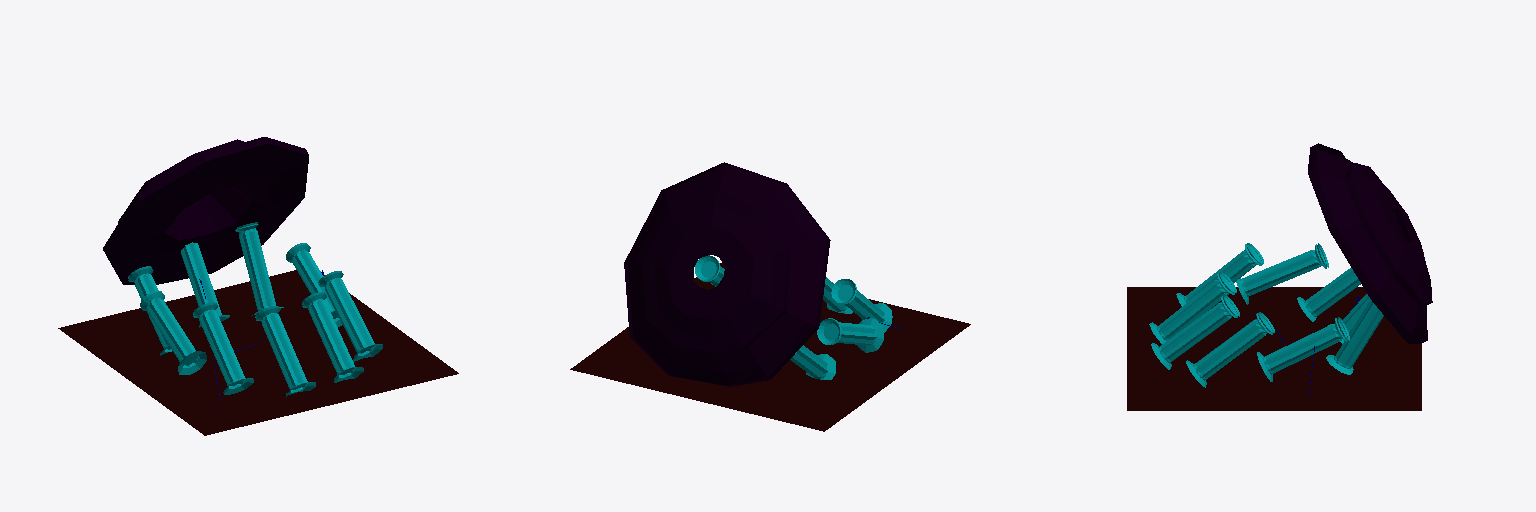
Rendered from Spearyard2d.obj.
3 renders of one model, left to right at view 1: azimuth 30°, elevation 25°; view 2: azimuth 150°, elevation 25°; view 3: azimuth 270°, elevation 25°, orthographic.
Visible parts, largest first — view 1: Plane, Plane.012_Plane.013, Plane.002, Plane.005_Plane.016, Plane.001_Plane.012, Plane.004_Plane.015, Plane.003_Plane.014, Plane.007_Plane.018, Plane.008_Plane.019, Plane.006_Plane.017, Plane.009_Plane.020; view 2: Plane.012_Plane.013, Plane, Plane.002, Plane.001_Plane.012, Plane.009_Plane.020, Plane.005_Plane.016; view 3: Plane, Plane.012_Plane.013, Plane.004_Plane.015, Plane.005_Plane.016, Plane.006_Plane.017, Plane.002, Plane.003_Plane.014, Plane.007_Plane.018, Plane.009_Plane.020, Plane.001_Plane.012.
Boxes of the visible parts, box(x1,y1,x2,y2) form: Plane: box(58, 270, 458, 435); Plane.012_Plane.013: box(103, 137, 308, 284); Plane.002: box(140, 291, 206, 374); Plane.005_Plane.016: box(318, 271, 382, 361); Plane.001_Plane.012: box(193, 302, 253, 394); Plane.004_Plane.015: box(302, 292, 363, 382); Plane.003_Plane.014: box(255, 306, 315, 396); Plane.007_Plane.018: box(235, 222, 283, 315); Plane.008_Plane.019: box(181, 242, 229, 327); Plane.006_Plane.017: box(286, 243, 341, 326); Plane.009_Plane.020: box(128, 266, 171, 355); Plane.012_Plane.013: box(624, 162, 830, 386); Plane: box(570, 263, 970, 431); Plane.002: box(817, 318, 883, 352); Plane.001_Plane.012: box(831, 279, 892, 332); Plane.009_Plane.020: box(790, 345, 835, 379); Plane.005_Plane.016: box(695, 255, 724, 286); Plane: box(1127, 287, 1421, 410); Plane.012_Plane.013: box(1308, 143, 1432, 343); Plane.004_Plane.015: box(1151, 295, 1239, 369); Plane.005_Plane.016: box(1186, 312, 1274, 387); Plane.006_Plane.017: box(1257, 317, 1349, 381); Plane.002: box(1236, 243, 1328, 304); Plane.003_Plane.014: box(1149, 272, 1236, 343); Plane.007_Plane.018: box(1326, 300, 1383, 374); Plane.009_Plane.020: box(1297, 268, 1360, 321); Plane.001_Plane.012: box(1176, 243, 1263, 306).
Bounding box in the file's own units: 6.02 × 4.53 × 6.25.